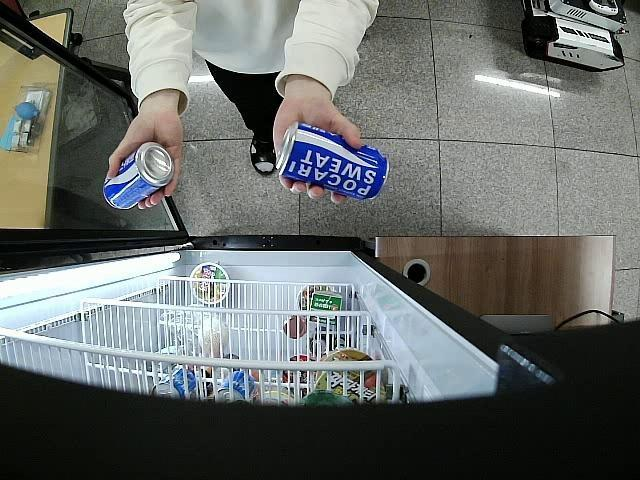13_pocariSweat: (275, 123, 391, 202), (102, 142, 175, 210)
